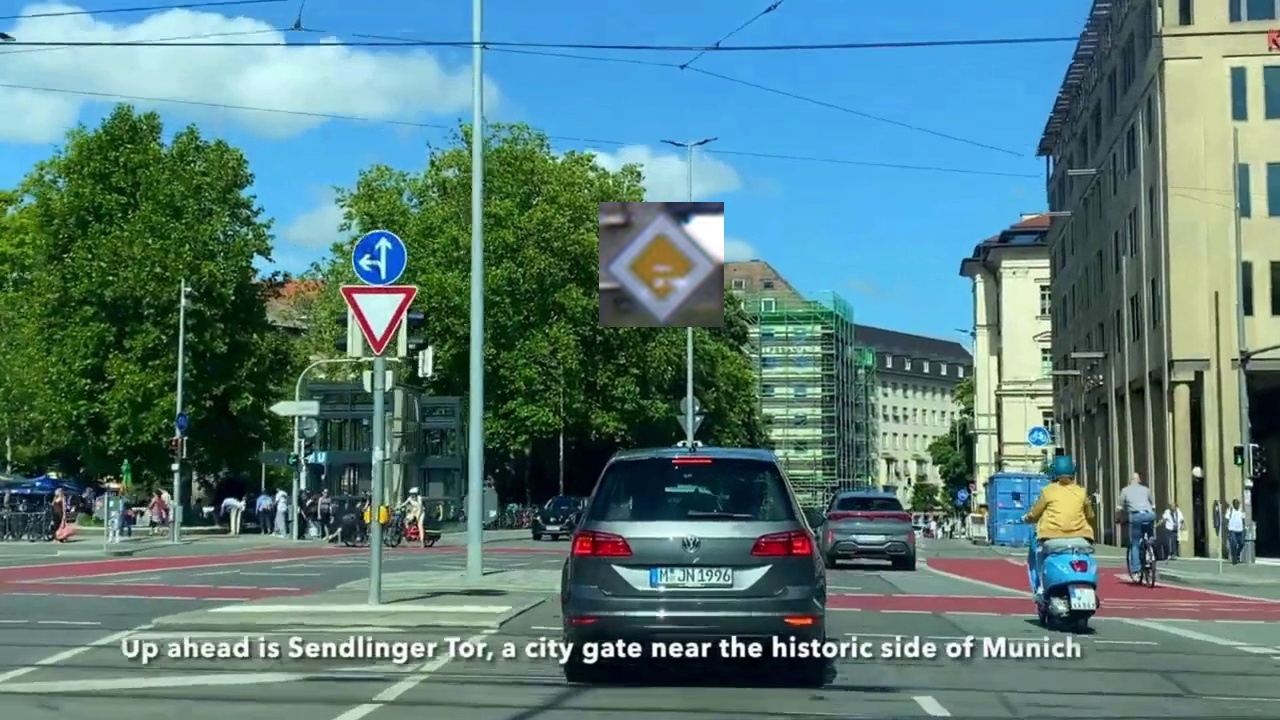Priority road: (599, 202, 724, 327)
